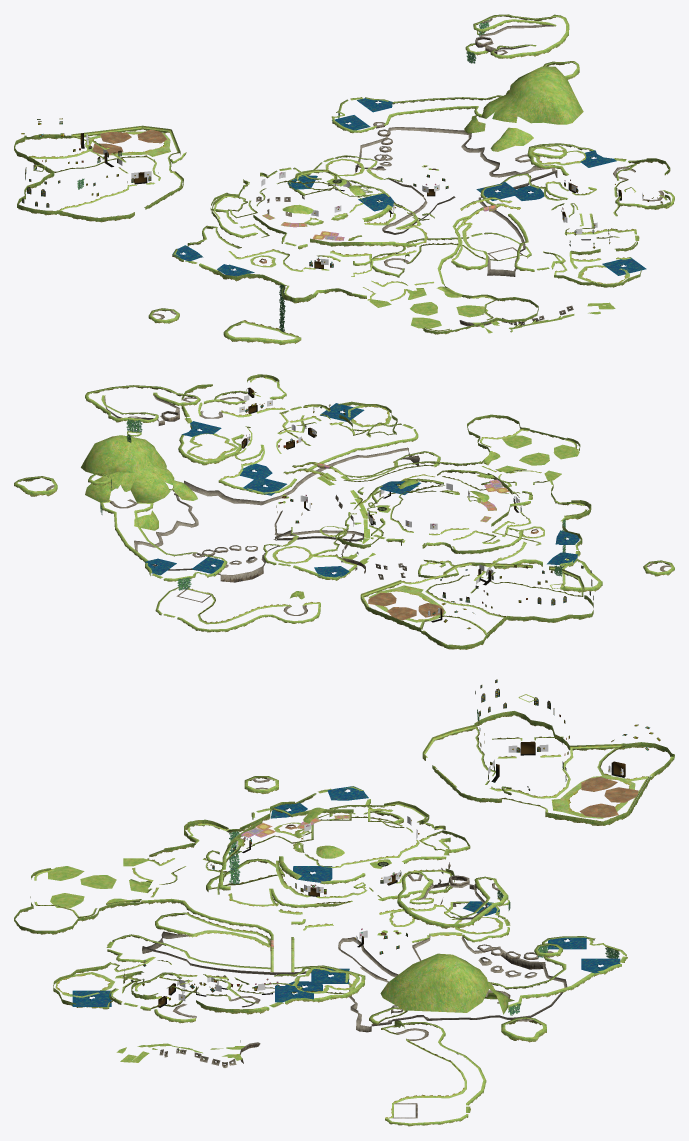
The picture shows the model from 3 angles, top to bottom: view 1: azimuth 30°, elevation 25°; view 2: azimuth 150°, elevation 25°; view 3: azimuth 270°, elevation 25°; orthographic projection. The views are drawn at different scales.
Parts seen in each view (by area): view 1: polygon25, polygon82, polygon24, polygon258, polygon59, polygon111, polygon108, polygon12, polygon268; view 2: polygon25, polygon82, polygon24, polygon258, polygon59, polygon111, polygon108, polygon268, polygon12, polygon0; view 3: polygon25, polygon82, polygon24, polygon258, polygon59, polygon111, polygon12, polygon108, polygon268.
Part boxes in pixels (x1,y1,x2,y2): polygon25: (14,14,674,344); polygon82: (282,66,615,333); polygon24: (152,18,663,326); polygon258: (172,98,646,276); polygon59: (92,129,266,263); polygon111: (21,118,662,267); polygon108: (86,134,643,264); polygon12: (80,133,621,269); polygon268: (77,19,489,332); polygon25: (14,374,674,649); polygon82: (81,435,579,599); polygon24: (46,394,671,615); polygon258: (145,403,579,577); polygon59: (368,529,538,620); polygon111: (242,389,593,629); polygon108: (239,395,518,616); polygon268: (100,419,566,590); polygon12: (241,387,518,622); polygon0: (316,463,509,522); polygon25: (14,694,674,1126); polygon82: (48,807,514,1062); polygon24: (142,777,567,1118); polygon258: (72,786,620,1006); polygon59: (285,777,638,829); polygon111: (123,679,660,1006); polygon12: (158,741,625,1007); polygon108: (177,744,623,1000); polygon268: (228,709,619,1015).
Size of the model in its own units: 239 by 205 by 82.06.
